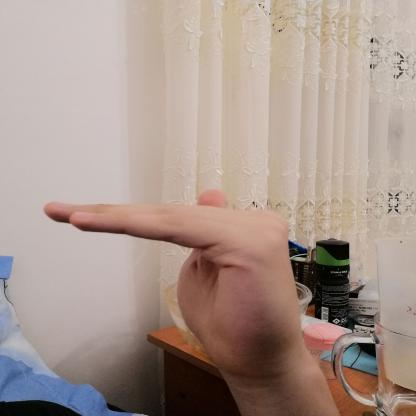KHAA: (27, 172, 346, 393)
